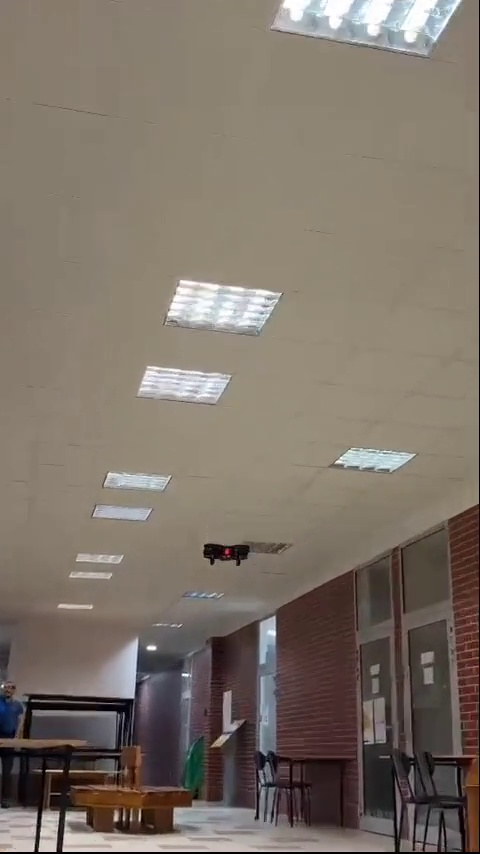drone: (207, 542, 252, 566)
no vest: (0, 679, 26, 805)
